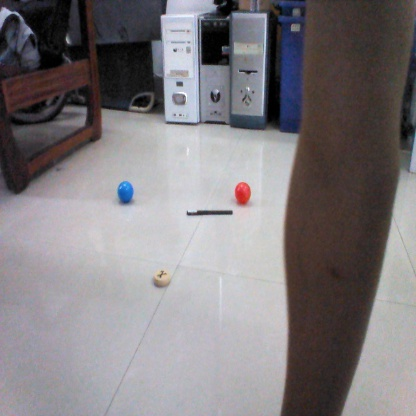ball: (115, 181, 137, 202), (234, 180, 255, 202)
chess: (152, 265, 173, 286)
pen: (186, 208, 234, 217)
